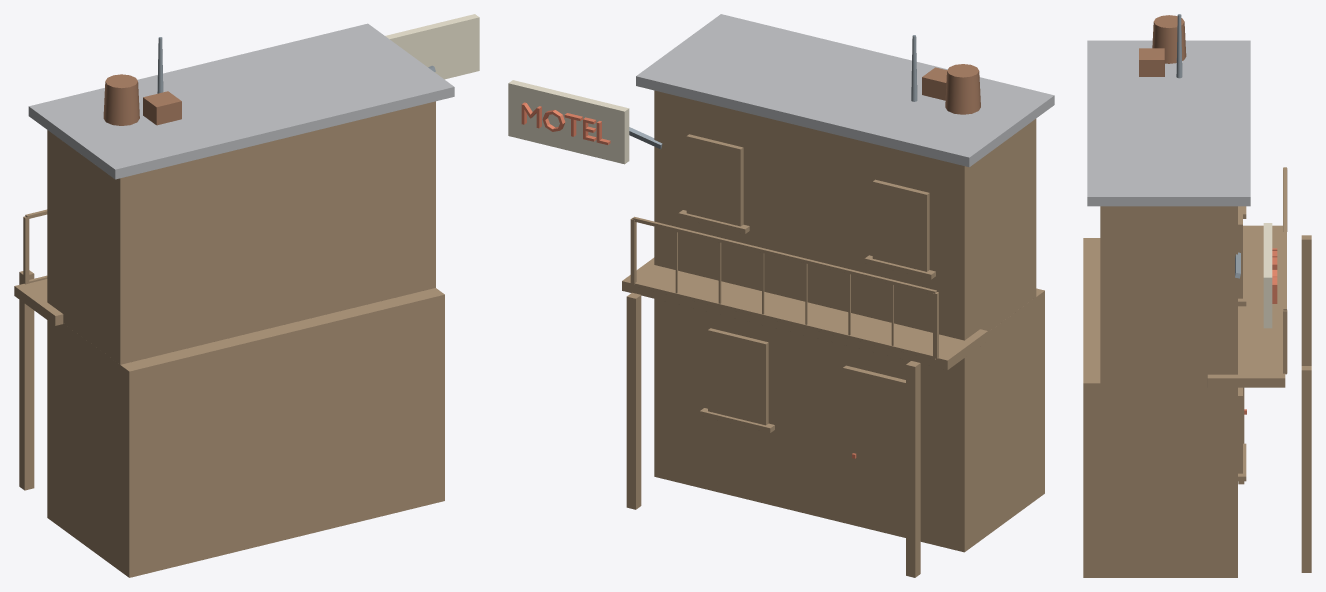
Rendered from shopfront_2_motel.glb.
3 renders of one model, left to right at view 1: azimuth 30°, elevation 25°; view 2: azimuth 150°, elevation 25°; view 3: azimuth 270°, elevation 25°, orthographic. The views are drawn at different scales.
Parts seen in each view (by area): view 1: shopfront_2_motel; view 2: shopfront_2_motel; view 3: shopfront_2_motel.
Boxes of the visible parts, x1,y1,x2,y2 form: shopfront_2_motel: (14,14,479,577); shopfront_2_motel: (508,14,1054,577); shopfront_2_motel: (1083,14,1311,577).
Bounding box in the file's own units: 5.8 × 5.85 × 2.66.
